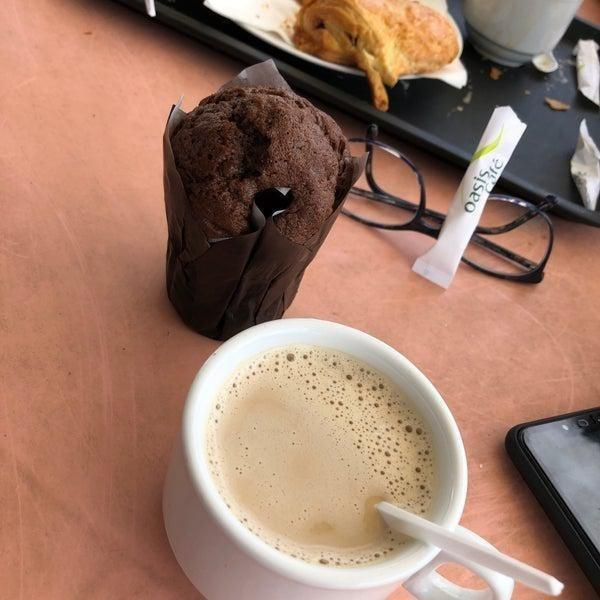cup-handle: (163, 316, 517, 599)
